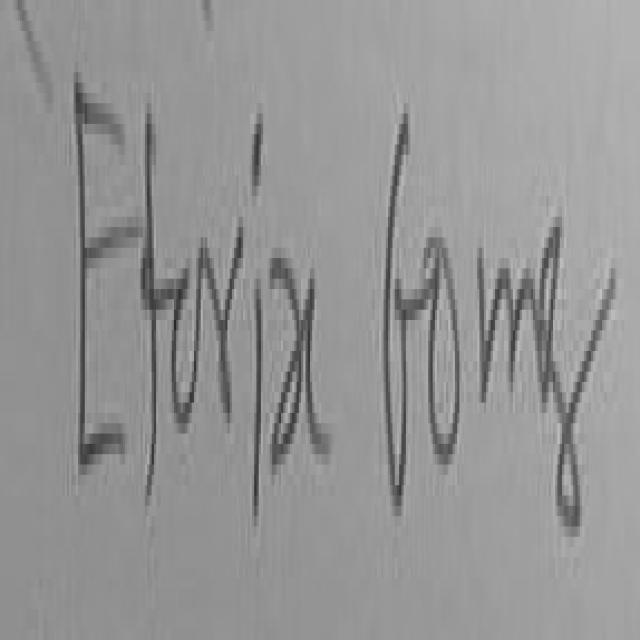0: (430, 259, 460, 459)
6: (382, 114, 409, 508)
E: (77, 72, 138, 459)
g: (540, 227, 618, 543)
i: (253, 289, 260, 521), (252, 114, 262, 181)
m: (479, 253, 538, 408)
o: (172, 274, 200, 428)
r: (203, 224, 243, 439)
t: (139, 118, 178, 513)
x: (270, 258, 330, 459)
